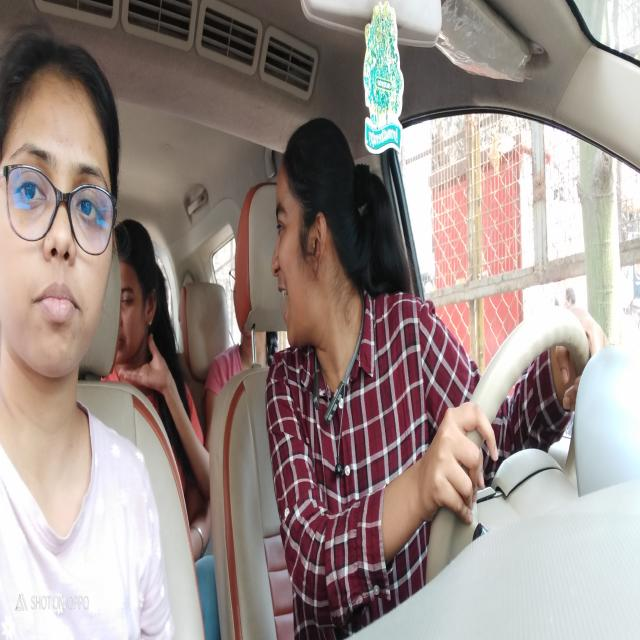LeftRight: (264, 122, 358, 357)
person: (1, 49, 120, 395), (120, 225, 170, 396)
talking: (274, 275, 294, 328)
